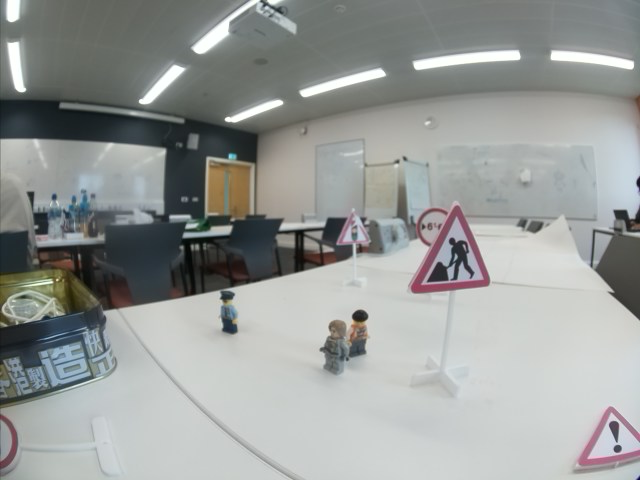6ft6: (415, 207, 447, 244)
Lego Man: (318, 319, 353, 375), (348, 310, 371, 358), (217, 289, 241, 334)
Roadworks: (407, 201, 493, 295)
Traffic lights: (336, 208, 373, 247)
Warning: (573, 405, 640, 469)
